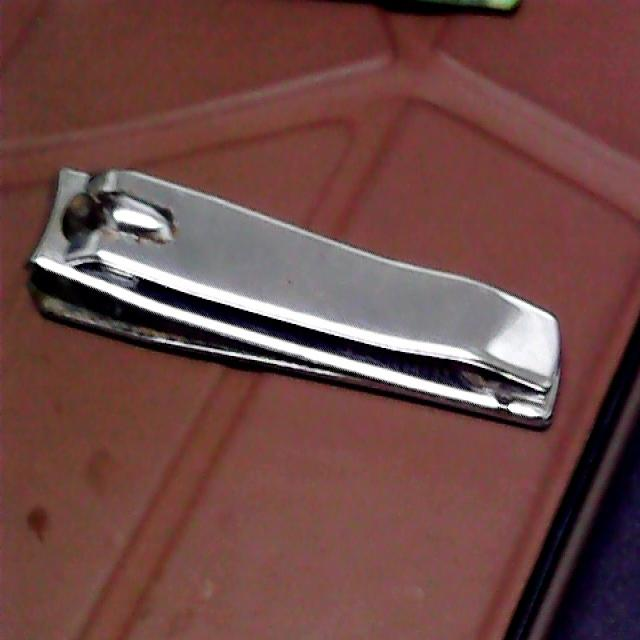Nail_clipper: (29, 168, 559, 428)
